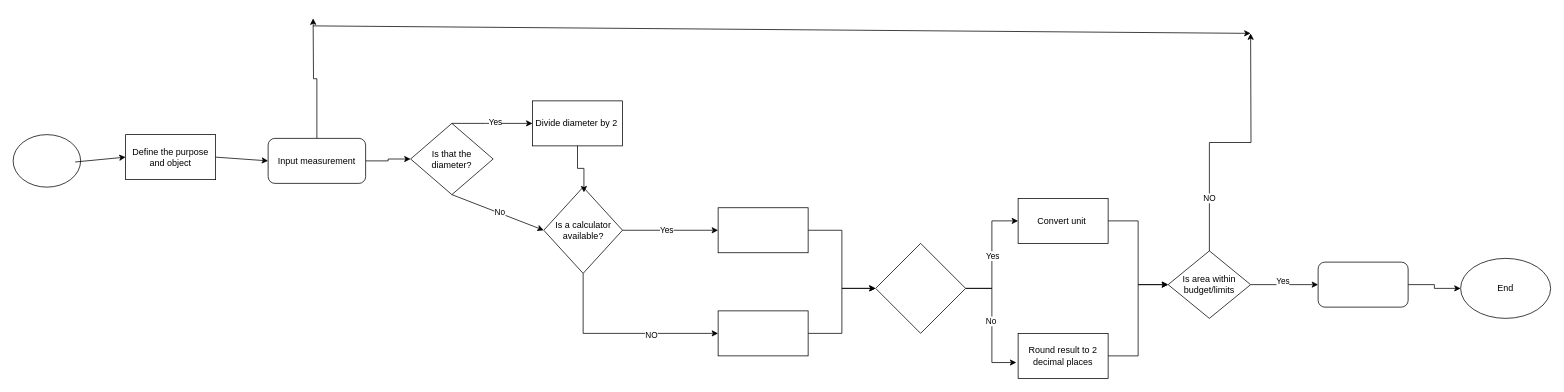
The diagram is 1564 pixels wide and 392 high, and some of its shapes have lost their labels. Each missing label, with the centre of its shape:
Calculate the area using 3.14: (762,333)
Calculate the area using the precise value pi.: (762,230)
Is unit conversion needed?: (920,288)
Start: (46,160)
Write the final result: (1362,284)
